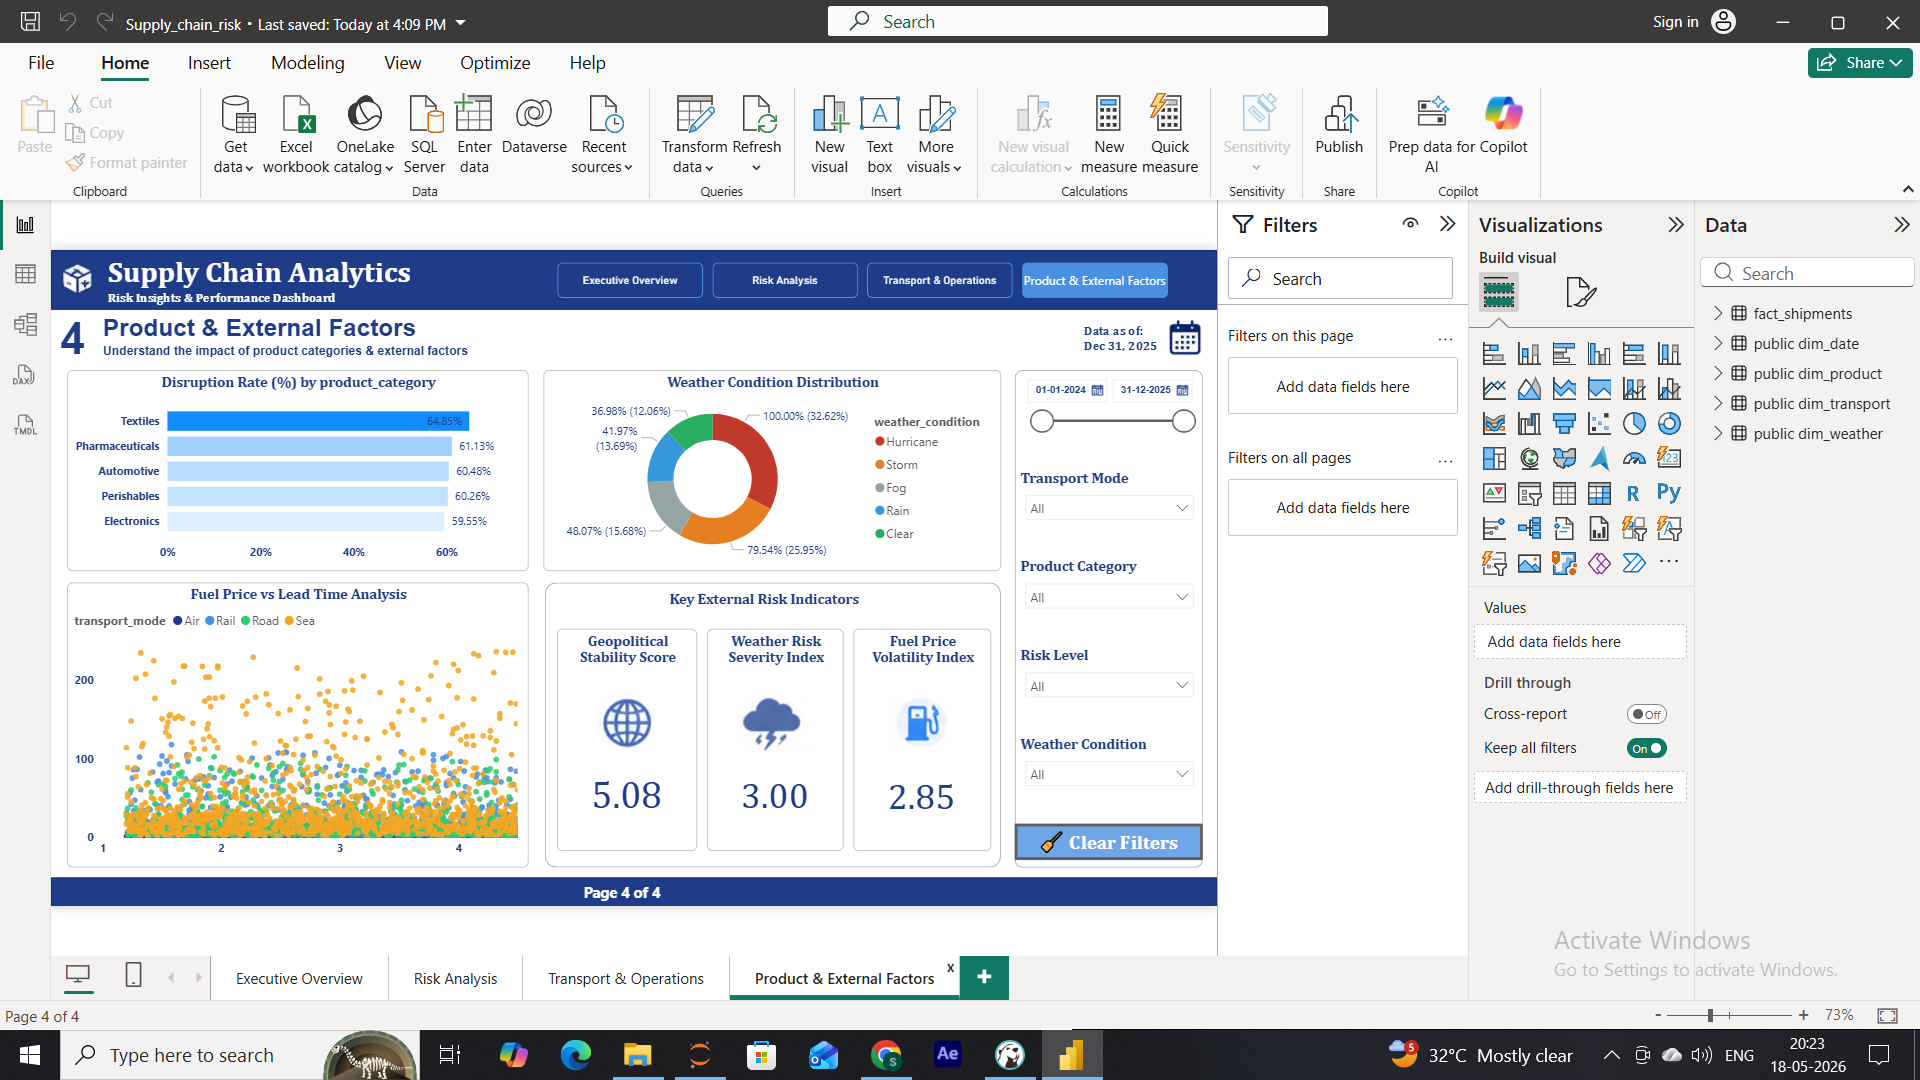

This screenshot's page, from the dashboard's own definition file:
{"tool":"powerbi","page":{"name":"Product & External Factors","canvas":[1280,720],"ordinal":3},"visuals":[{"type":"shape","box":[542,365,500.9,312.9],"z":0},{"type":"shape","box":[0,0,1280.3,65.9],"z":1000},{"type":"shape","box":[0,688.4,1280.3,31.6],"z":2000},{"type":"textbox","box":[0,688.4,1280.3,31.6],"z":3000},{"type":"pageNavigator","box":[555.7,13.7,672.4,39.8],"z":4000},{"type":"image","box":[0,6.8,57,52.9],"z":5000},{"type":"textbox","box":[57,0,397.8,221.3],"z":6000},{"type":"textbox","box":[5.5,65.9,46.7,81],"z":7000},{"type":"textbox","box":[52.1,65.9,790.4,100.2],"z":8000},{"type":"cardVisual","fields":{"Data":["fact_shipments.Last Updated"]},"box":[1104.6,45.3,159.2,101.5],"z":9000},{"type":"image","box":[1226.8,74.1,37,45.3],"z":10000},{"type":"barChart","fields":{"Category":["fact_shipments.product_category"],"Y":["fact_shipments.Disruption Rate (%)"]},"box":[17.8,131.7,506.3,220.9],"z":11000},{"type":"donutChart","title":"Weather Condition Distribution","fields":{"Category":["fact_shipments.weather_condition"],"Y":["fact_shipments.Disruption Rate (%)"]},"box":[540.7,131.7,502.2,220.9],"z":12000},{"type":"scatterChart","title":"Fuel Price vs Lead Time Analysis","fields":{"Series":["fact_shipments.transport_mode"],"X":["fact_shipments.fuel_price_index"],"Y":["fact_shipments.lead_time_days"]},"box":[17.8,365,506.3,312.9],"z":13000},{"type":"shape","box":[1057.9,132.1,206.5,546.3],"z":14000},{"type":"slicer","fields":{"Values":["fact_shipments.date"]},"box":[1059.1,132.1,205.3,94.9],"z":15000},{"type":"slicer","title":"Transport Mode","fields":{"Values":["fact_shipments.transport_mode"]},"box":[1059.1,240.2,205.3,79.2],"z":16000},{"type":"slicer","title":"Product Category","fields":{"Values":["fact_shipments.product_category"]},"box":[1059,337.8,205,78.7],"z":17000},{"type":"slicer","title":"Risk Level","fields":{"Values":["fact_shipments.risk_level"]},"box":[1059,434.9,205,78.7],"z":18000},{"type":"slicer","title":"Weather Condition","fields":{"Values":["fact_shipments.weather_condition"]},"box":[1059,532.1,205,78.7],"z":19000},{"type":"textbox","box":[1057.9,629.2,205.3,39.6],"z":20000},{"type":"actionButton","box":[1057.9,629.2,206.5,39.6],"z":21000},{"type":"cardVisual","title":"Geopolitical Stability Score","fields":{"Data":["fact_shipments.Avg Risk Score"]},"box":[555.9,416.2,153.9,243.7],"z":22000},{"type":"cardVisual","title":"Fuel Price Volatility Index","fields":{"Data":["fact_shipments.Avg Fuel Price"]},"box":[881,415.8,150.9,244.3],"z":23000},{"type":"cardVisual","title":"Weather Risk Severity Index","fields":{"Data":["fact_shipments.Avg Weather Risk"]},"box":[720.6,416.2,149.7,243.7],"z":24000},{"type":"textbox","box":[506,369.2,553.1,35.6],"z":25000},{"type":"image","box":[569.5,485.8,124.9,70],"z":26000},{"type":"image","box":[734.1,487.1,124.9,70],"z":27000},{"type":"image","box":[893.3,484.4,124.9,70],"z":28000}]}

Visuals, with their boxes on the page's 1280x720 design canvas (x1, y1, x2, y2). These are canvas units, not pixel positions in the 1920x1080 screenshot, which may show the page scaled, cropped or inside an application window:
shape: x1=542, y1=365, x2=1043, y2=678
shape: x1=0, y1=0, x2=1280, y2=66
shape: x1=0, y1=688, x2=1280, y2=720
textbox: x1=0, y1=688, x2=1280, y2=720
pageNavigator: x1=556, y1=14, x2=1228, y2=54
image: x1=0, y1=7, x2=57, y2=60
textbox: x1=57, y1=0, x2=455, y2=221
textbox: x1=6, y1=66, x2=52, y2=147
textbox: x1=52, y1=66, x2=842, y2=166
cardVisual - fact_shipments.Last Updated: x1=1105, y1=45, x2=1264, y2=147
image: x1=1227, y1=74, x2=1264, y2=119
barChart - fact_shipments.product_category x fact_shipments.Disruption Rate (%): x1=18, y1=132, x2=524, y2=353
"Weather Condition Distribution" donutChart: x1=541, y1=132, x2=1043, y2=353
"Fuel Price vs Lead Time Analysis" scatterChart: x1=18, y1=365, x2=524, y2=678
shape: x1=1058, y1=132, x2=1264, y2=678
slicer - fact_shipments.date: x1=1059, y1=132, x2=1264, y2=227
"Transport Mode" slicer: x1=1059, y1=240, x2=1264, y2=319
"Product Category" slicer: x1=1059, y1=338, x2=1264, y2=416
"Risk Level" slicer: x1=1059, y1=435, x2=1264, y2=514
"Weather Condition" slicer: x1=1059, y1=532, x2=1264, y2=611
textbox: x1=1058, y1=629, x2=1263, y2=669
actionButton: x1=1058, y1=629, x2=1264, y2=669
"Geopolitical Stability Score" cardVisual: x1=556, y1=416, x2=710, y2=660
"Fuel Price Volatility Index" cardVisual: x1=881, y1=416, x2=1032, y2=660
"Weather Risk Severity Index" cardVisual: x1=721, y1=416, x2=870, y2=660
textbox: x1=506, y1=369, x2=1059, y2=405
image: x1=570, y1=486, x2=694, y2=556
image: x1=734, y1=487, x2=859, y2=557
image: x1=893, y1=484, x2=1018, y2=554
